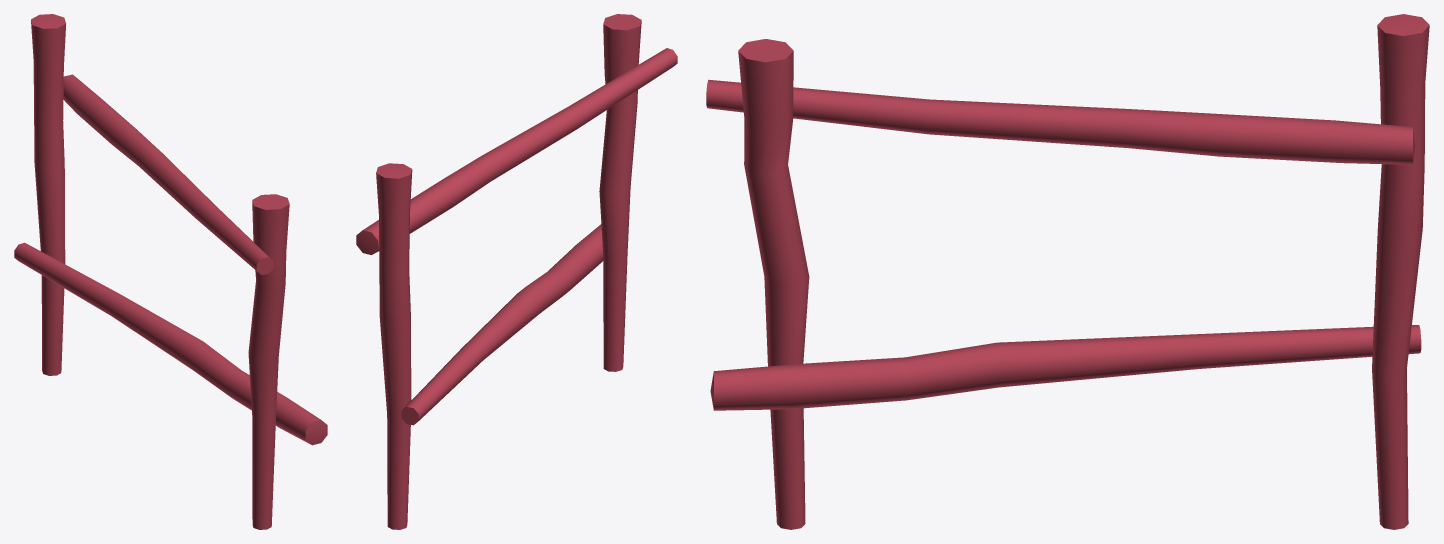
File: fence_01.fbx
3 renders of one model, left to right at view 1: azimuth 30°, elevation 25°; view 2: azimuth 150°, elevation 25°; view 3: azimuth 270°, elevation 25°, orthographic. The views are drawn at different scales.
Visible parts, largest first — view 1: pCylinder15; view 2: pCylinder15; view 3: pCylinder15.
Part boxes in pixels (left/top/right/bottom): pCylinder15: left=14, top=14, right=327, bottom=529; pCylinder15: left=356, top=14, right=677, bottom=529; pCylinder15: left=706, top=14, right=1429, bottom=529.
Size of the model in its own units: 0.1999 by 0.9182 by 1.2.
